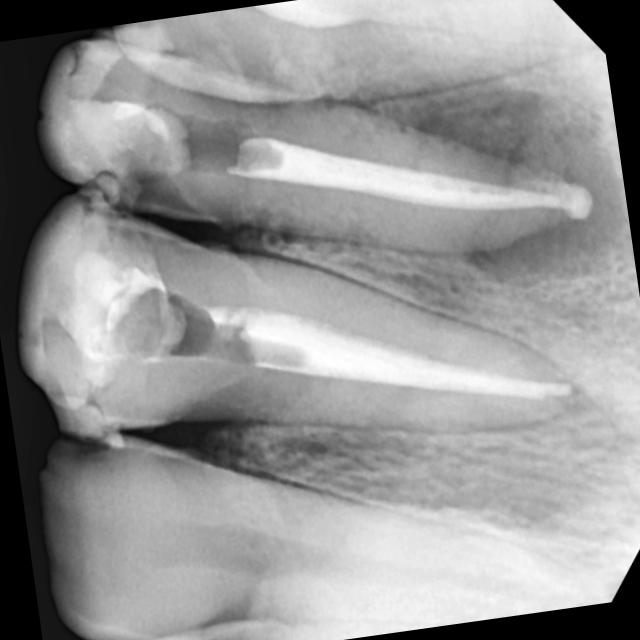RCT: (210, 260, 581, 456), (214, 85, 592, 274)
